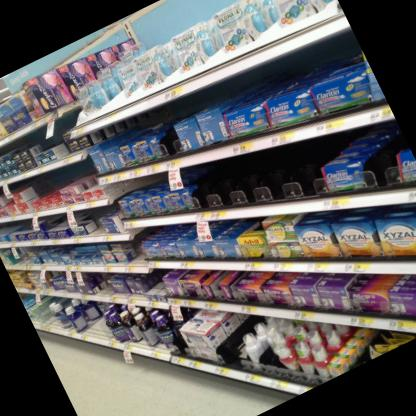empty_space: (192, 160, 274, 213), (243, 155, 318, 209), (293, 158, 323, 204)
